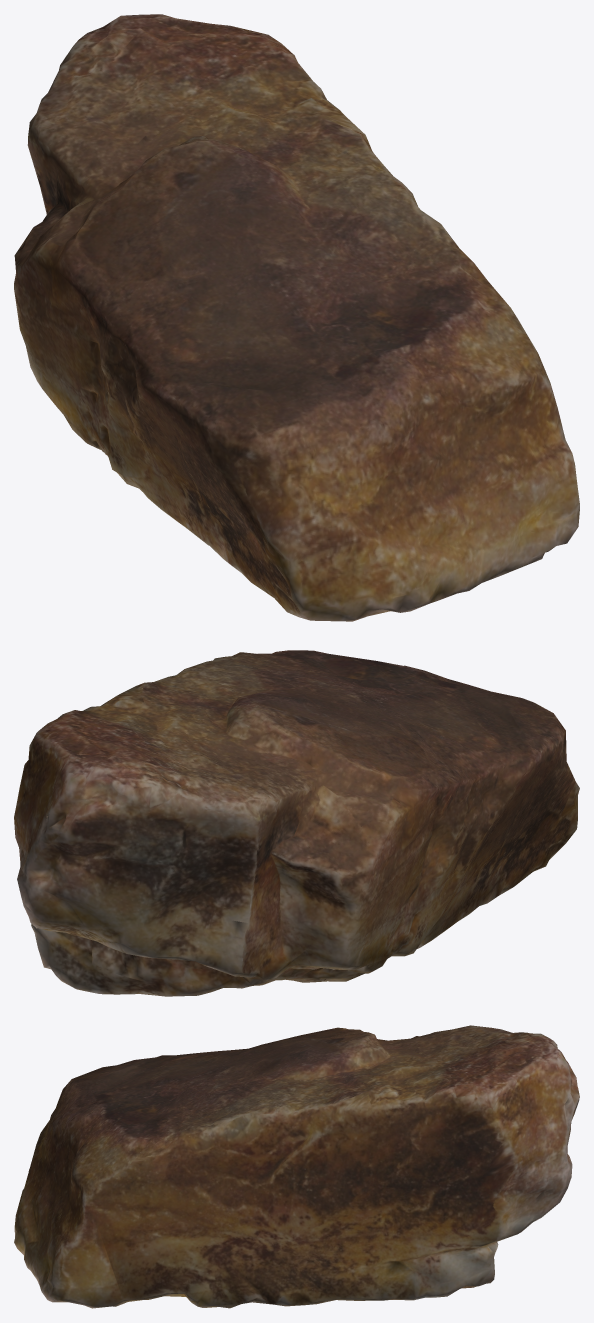
The model's file is RiverRock.fbx.
The picture shows the model from 3 angles, top to bottom: view 1: azimuth 30°, elevation 25°; view 2: azimuth 150°, elevation 25°; view 3: azimuth 270°, elevation 25°; orthographic projection. The views are drawn at different scales.
Visible parts, largest first — view 1: RiverRock; view 2: RiverRock; view 3: RiverRock.
Boxes of the visible parts, x1,y1,x2,y2 form: RiverRock: (14, 14, 579, 621); RiverRock: (14, 650, 579, 996); RiverRock: (14, 1025, 579, 1308).
Bounding box in the file's own units: 16.89 × 14.36 × 32.05.
Materials: 1 (1 with a texture image).
